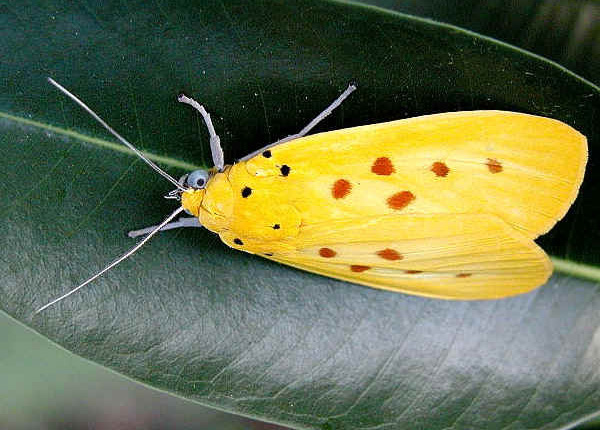Agape chloropyga: (37, 73, 593, 320)
moth: (37, 73, 600, 323)
